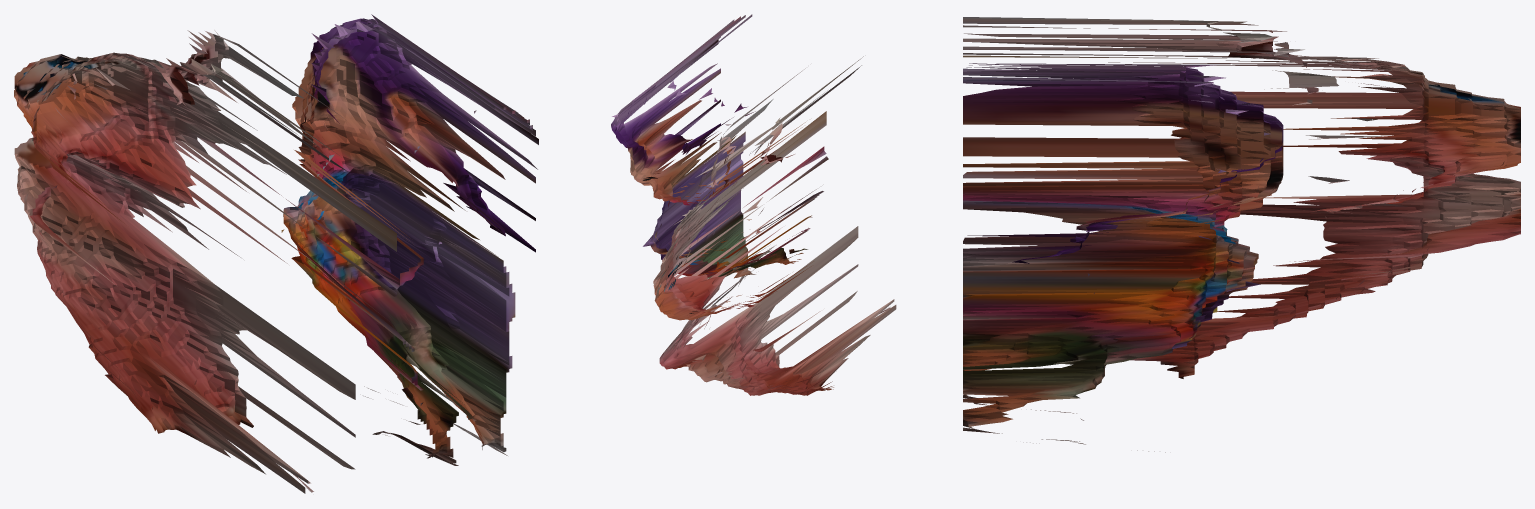
The model's file is frame_00019.glb.
3 views of the same model, side by side, from view 1: azimuth 30°, elevation 25°; view 2: azimuth 150°, elevation 25°; view 3: azimuth 270°, elevation 25° (orthographic). The views are drawn at different scales.
Parts seen in each view (by area): view 1: geometry_0; view 2: geometry_0; view 3: geometry_0.
Part boxes in pixels (left/top/right/bottom): geometry_0: left=14, top=14, right=538, bottom=493; geometry_0: left=611, top=14, right=896, bottom=395; geometry_0: left=963, top=17, right=1520, bottom=452.
Bounding box in the file's own units: 0.0951 × 0.1345 × 0.16.
Materials: 1 (1 with a texture image).
